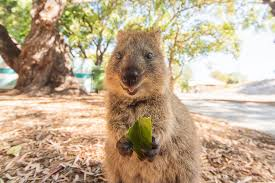quokka: (83, 24, 213, 183)
